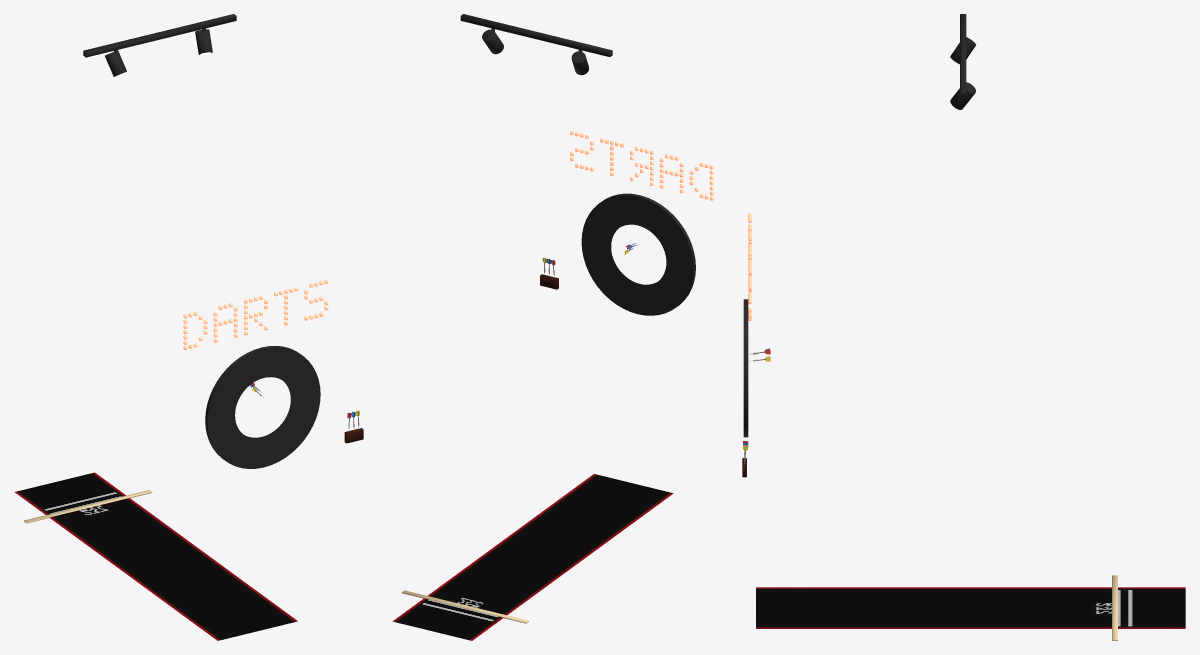
The model's file is darts_zone.glb.
3 renders of one model, left to right at view 1: azimuth 30°, elevation 25°; view 2: azimuth 150°, elevation 25°; view 3: azimuth 270°, elevation 25°, orthographic. The views are drawn at different scales.
Visible parts, largest first — view 1: Throw mat, Surround, Track black, Neon red, Oche; view 2: Throw mat, Surround, Track black, Neon red, Oche; view 3: Throw mat, Track black, Surround.
Boxes of the visible parts, box(x1,y1,x2,y2) form: Throw mat: box(14, 472, 297, 640); Surround: box(205, 346, 320, 468); Track black: box(83, 14, 236, 76); Neon red: box(183, 280, 328, 349); Oche: box(24, 490, 152, 523); Throw mat: box(392, 474, 673, 640); Surround: box(581, 193, 695, 315); Track black: box(460, 14, 612, 75); Neon red: box(570, 131, 713, 200); Oche: box(401, 590, 528, 623); Throw mat: box(756, 587, 1185, 628); Track black: box(950, 14, 975, 109); Surround: box(743, 299, 748, 437).
Size of the model in its own units: 1.4 by 4 by 2.89.
13 materials, 2 textured.
